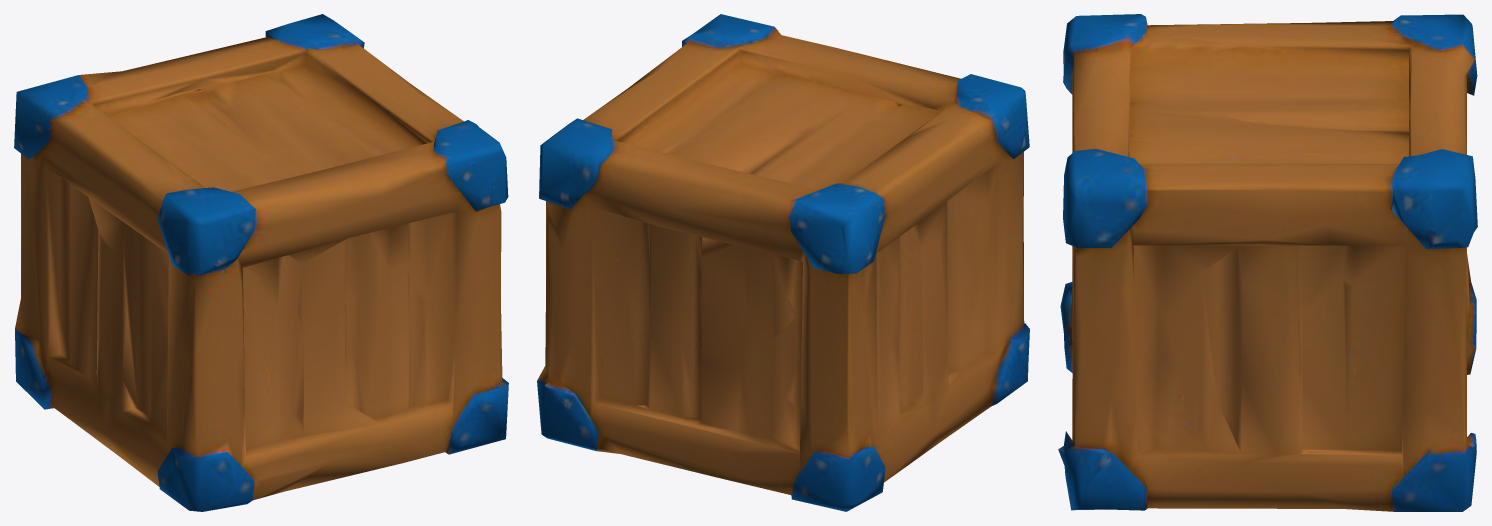
Rendered from crate.glb.
3 renders of one model, left to right at view 1: azimuth 30°, elevation 25°; view 2: azimuth 150°, elevation 25°; view 3: azimuth 270°, elevation 25°, orthographic. The views are drawn at different scales.
Visible parts, largest first — view 1: tripo_node_87d22f01-0822-426e-8f7d-9f404407dc6b; view 2: tripo_node_87d22f01-0822-426e-8f7d-9f404407dc6b; view 3: tripo_node_87d22f01-0822-426e-8f7d-9f404407dc6b.
Boxes of the visible parts, x1,y1,x2,y2 form: tripo_node_87d22f01-0822-426e-8f7d-9f404407dc6b: (14, 14, 508, 511); tripo_node_87d22f01-0822-426e-8f7d-9f404407dc6b: (537, 14, 1029, 511); tripo_node_87d22f01-0822-426e-8f7d-9f404407dc6b: (1058, 14, 1477, 511).
Size of the model in its own units: 1 by 0.8863 by 0.9965.
1 material, 1 textured.
